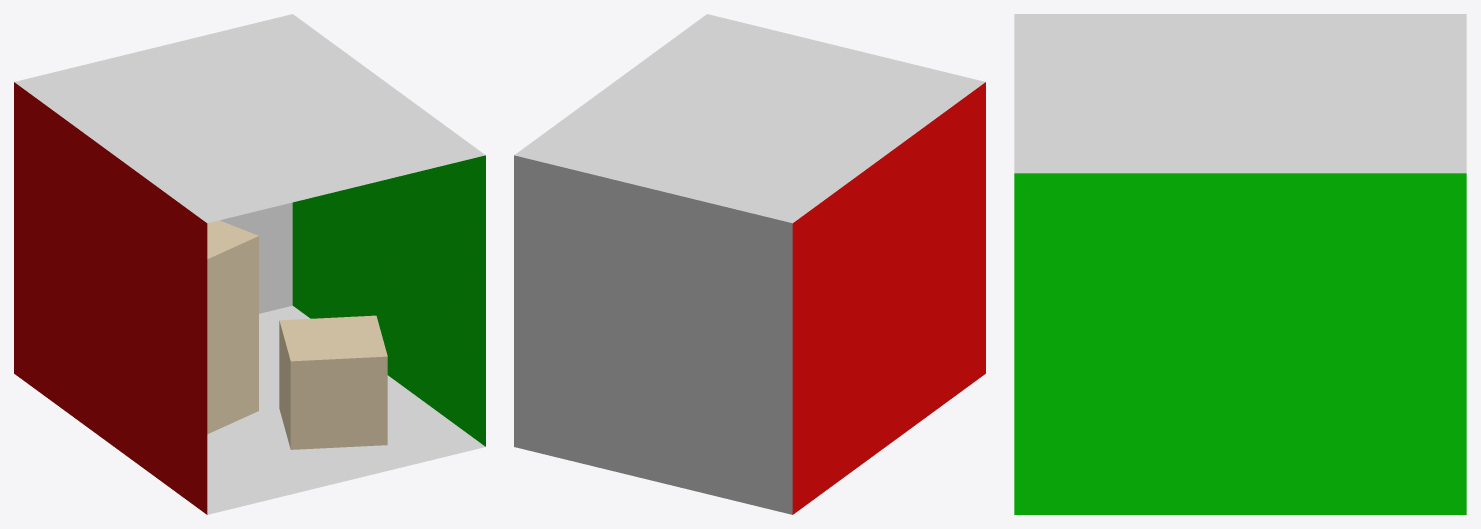
The model's file is cornell_box.gltf.
3 views of the same model, side by side, from view 1: azimuth 30°, elevation 25°; view 2: azimuth 150°, elevation 25°; view 3: azimuth 270°, elevation 25° (orthographic). The views are drawn at different scales.
Parts seen in each view (by area): view 1: Cube, Plane.001, Plane.002, Cube.001, Cube.002; view 2: Cube, Plane.001; view 3: Plane.002, Cube.
Boxes of the visible parts, x1=… form: Cube: x1=14, y1=14, x2=485, y2=514; Plane.001: x1=14, y1=82, x2=207, y2=514; Plane.002: x1=292, y1=155, x2=485, y2=446; Cube.001: x1=279, y1=315, x2=387, y2=449; Cube.002: x1=207, y1=220, x2=258, y2=434; Cube: x1=514, y1=14, x2=985, y2=514; Plane.001: x1=792, y1=82, x2=985, y2=514; Plane.002: x1=1014, y1=173, x2=1466, y2=514; Cube: x1=1014, y1=14, x2=1466, y2=173.
Bounding box in the file's own units: 5.5 × 5.5 × 6.6.
